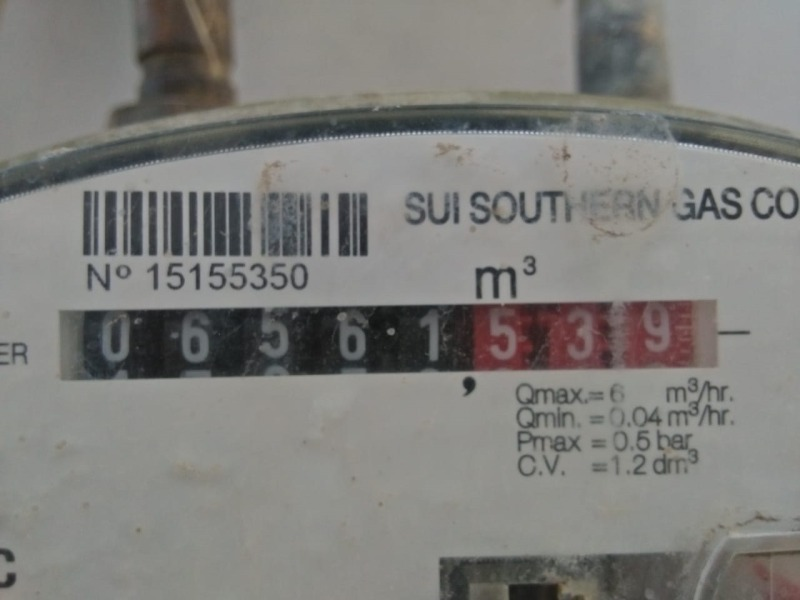ssgc: (50, 298, 700, 377)
